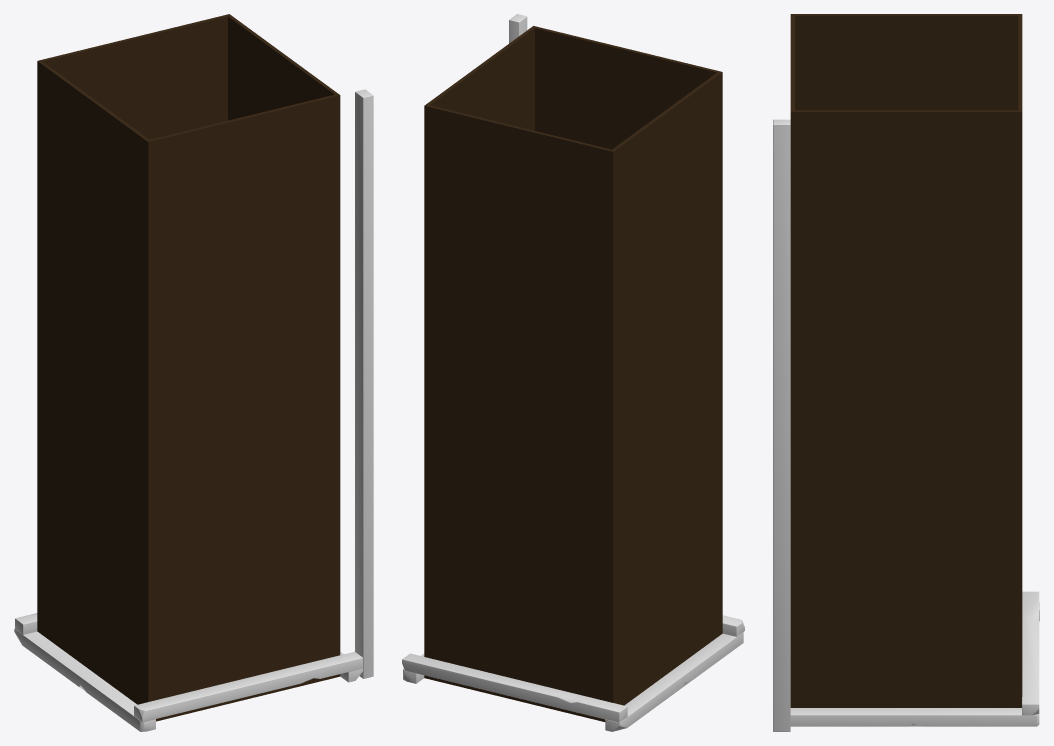
Rendered from Marine board.fbx.
The picture shows the model from 3 angles, left to right: view 1: azimuth 30°, elevation 25°; view 2: azimuth 150°, elevation 25°; view 3: azimuth 270°, elevation 25°; orthographic projection. The views are drawn at different scales.
Parts seen in each view (by area): view 1: Marine board 2.4 by 1.2, plank thin.004, plank thin.002, plank thin.001; view 2: Marine board 2.4 by 1.2, plank thin.003, plank thin.001; view 3: Marine board 2.4 by 1.2, plank thin.004, plank thin, plank thin.003.
Part boxes in pixels (left/top/right/bottom): Marine board 2.4 by 1.2: left=37, top=14, right=340, bottom=721; plank thin.004: left=355, top=89, right=373, bottom=678; plank thin.002: left=134, top=651, right=362, bottom=722; plank thin.001: left=14, top=628, right=155, bottom=731; Marine board 2.4 by 1.2: left=424, top=26, right=722, bottom=721; plank thin.003: left=402, top=653, right=627, bottom=722; plank thin.001: left=605, top=632, right=743, bottom=731; Marine board 2.4 by 1.2: left=790, top=14, right=1022, bottom=707; plank thin.004: left=773, top=119, right=790, bottom=731; plank thin: left=790, top=708, right=1039, bottom=726; plank thin.003: left=1022, top=591, right=1039, bottom=715.
Size of the model in its own units: 125 by 300 by 119.
